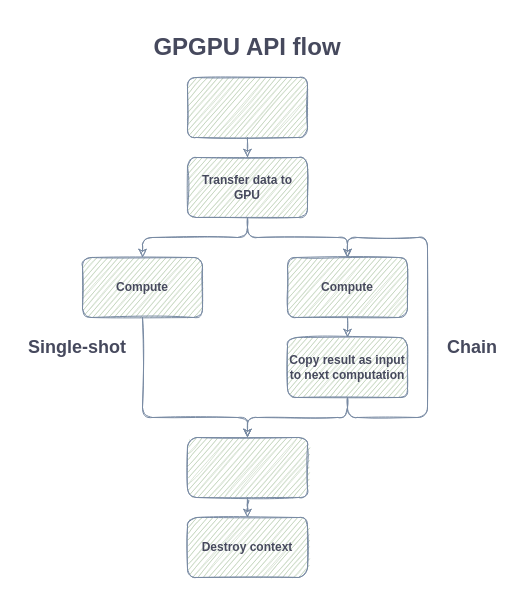
The diagram is 524 pixels wide and 595 high, and some of its shapes have lost their labels. The shapes that lost their labels are listed below. From the top down, each one's centre as x and y in pixels, then its label:
pixel 247 107: Create context
pixel 247 467: Read data back to CPU
